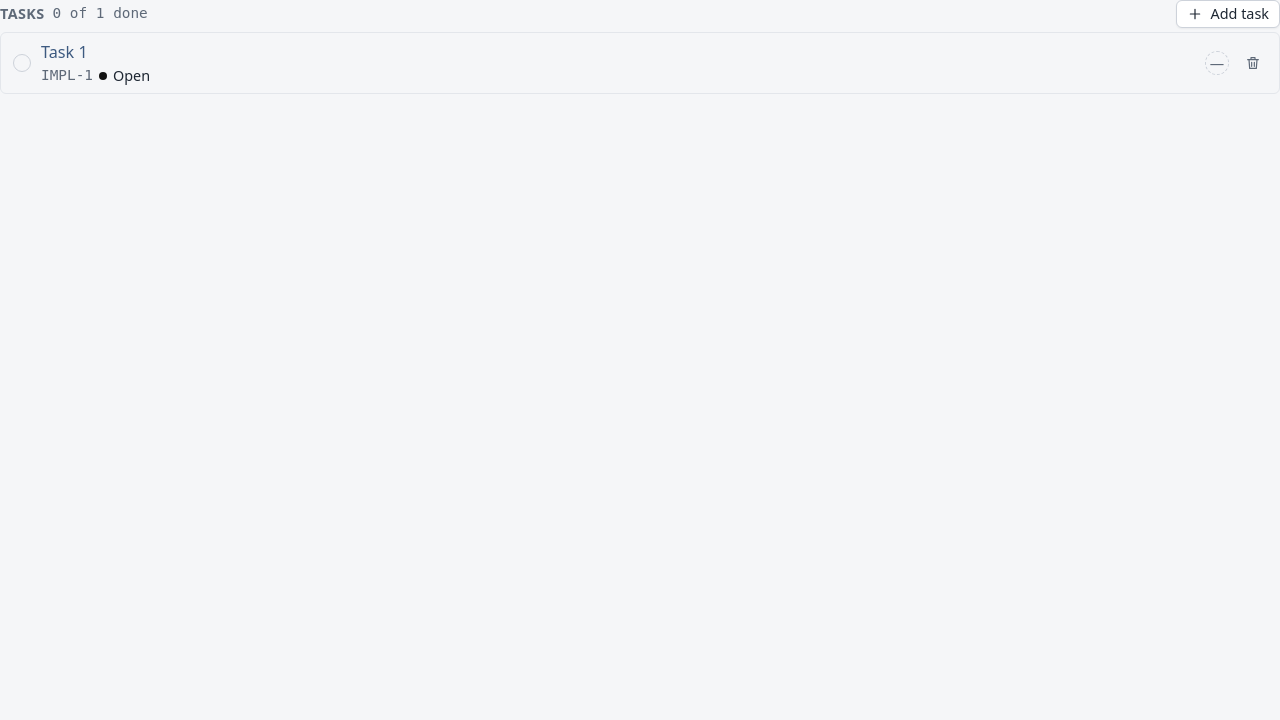
TasksSection: Move back › asks before adding when the parent is past the reference lane, and opens no form
This screenshot has width=1280, height=720.
Click the button "Add task" at x=1228, y=14, box [1176,0,1279,28]
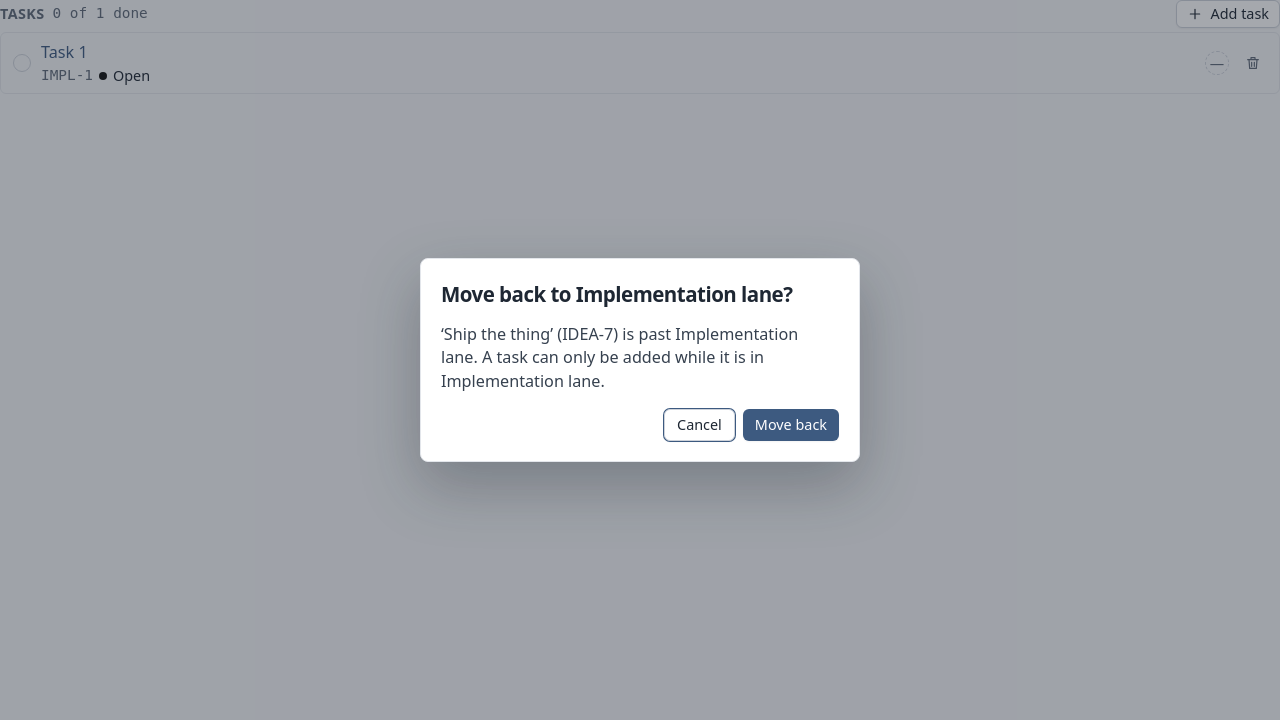
Expected: the heading "Move back to Implementation lane?" is shown, [441,279,839,311]
